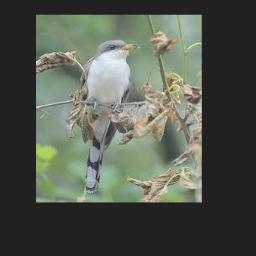Cuckoo: (81, 39, 140, 194)
